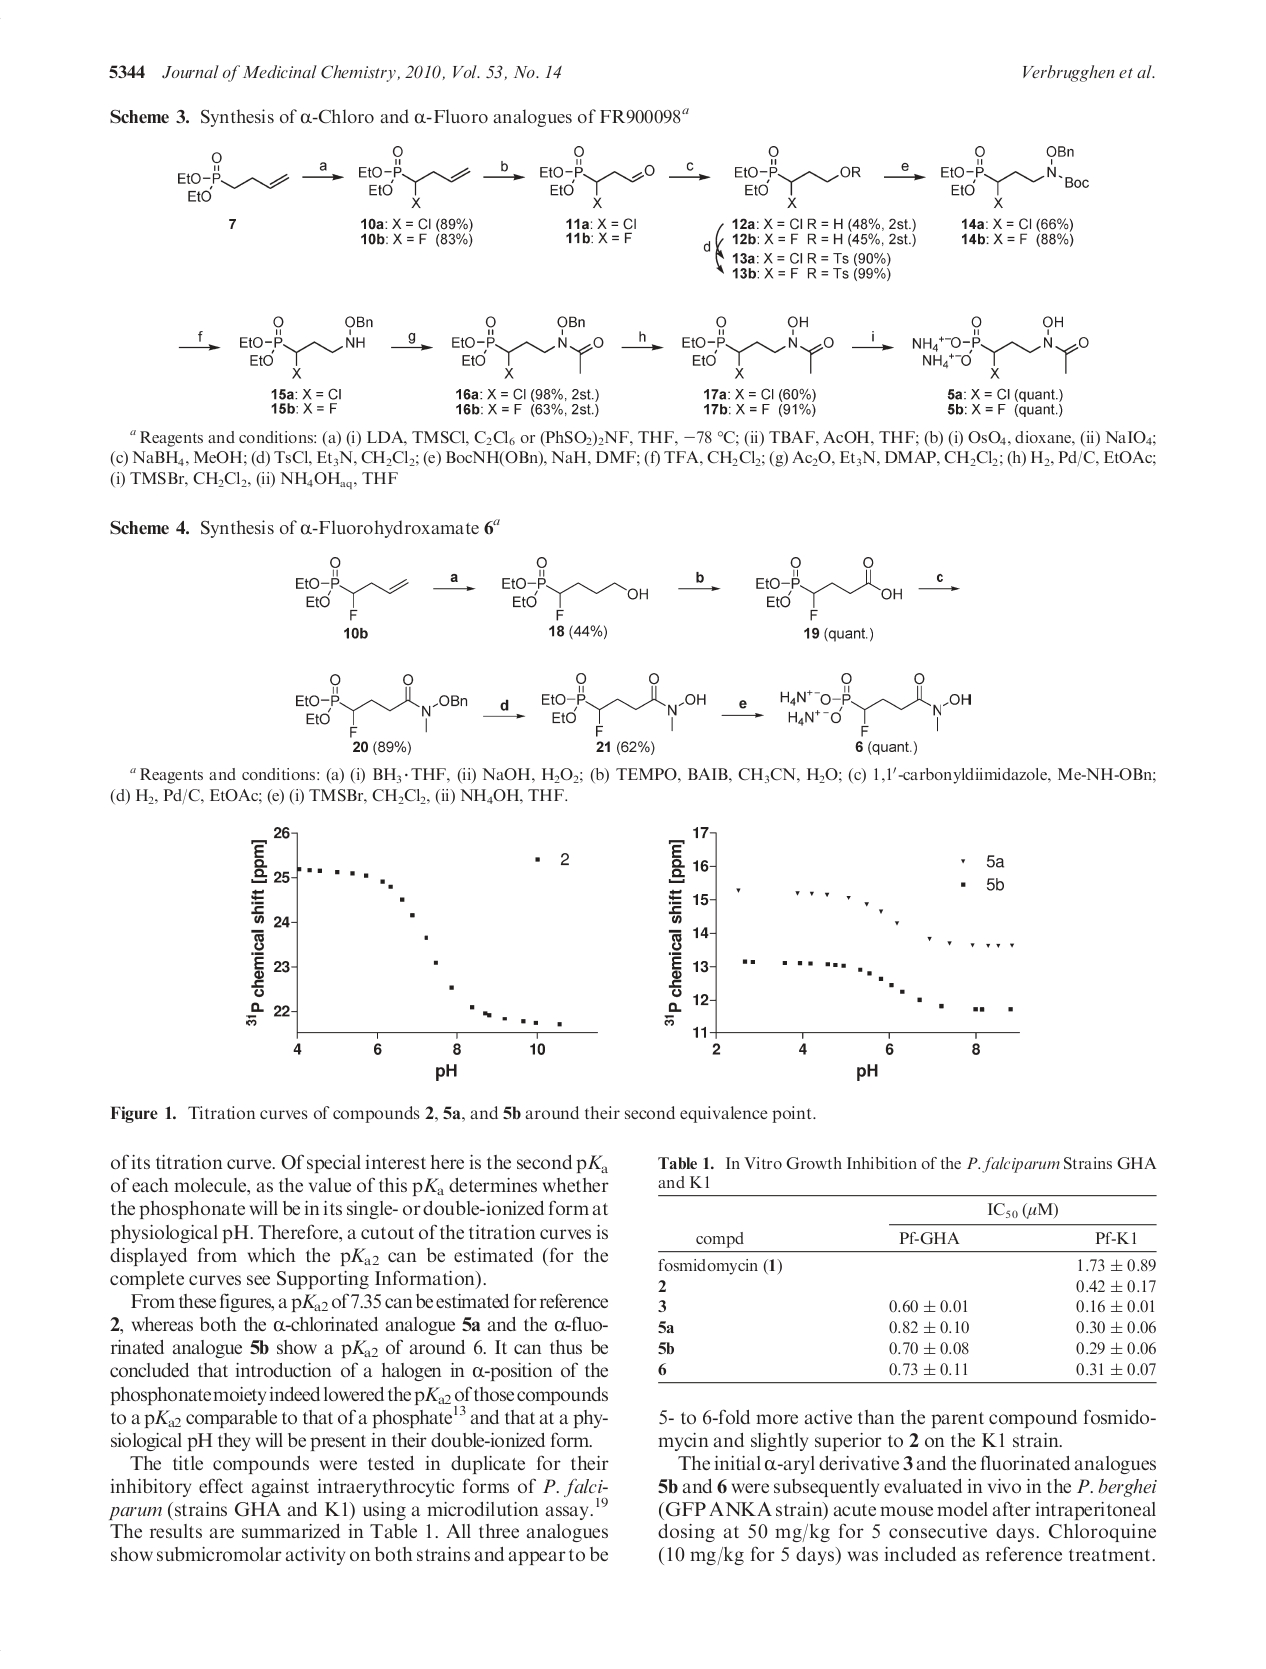exist_molecular: (778, 666, 977, 742), (914, 307, 1090, 386), (537, 661, 711, 739), (676, 302, 836, 384), (934, 137, 1098, 214), (449, 310, 622, 382), (293, 673, 483, 737), (755, 549, 910, 626), (493, 552, 662, 621), (234, 307, 378, 386), (734, 140, 866, 215), (527, 145, 660, 215), (294, 547, 414, 621), (350, 144, 471, 209), (173, 149, 295, 205)
